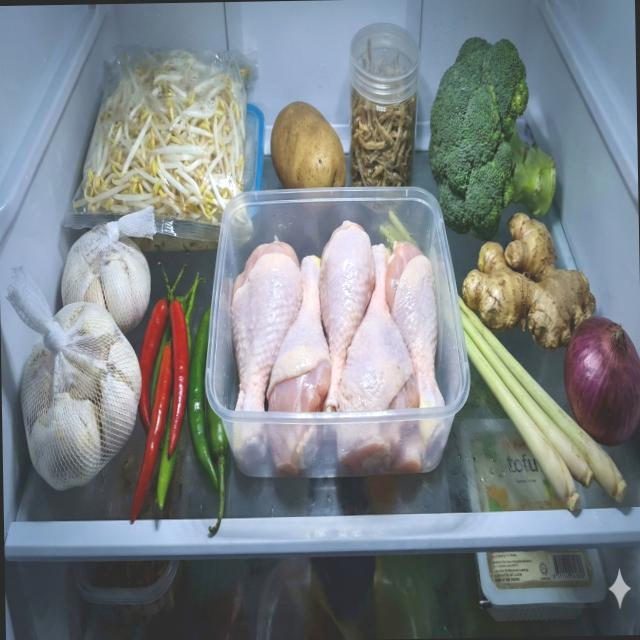bean_sprouts: (70, 44, 254, 233)
brocolli: (426, 34, 558, 242)
chicken: (229, 217, 446, 476)
chili: (126, 260, 230, 536)
garlic: (17, 220, 156, 493)
ginger: (460, 210, 597, 352)
lemongrass: (458, 293, 628, 514)
onion: (561, 315, 640, 448)
potato: (269, 100, 346, 189)
tofu: (472, 433, 592, 589)
